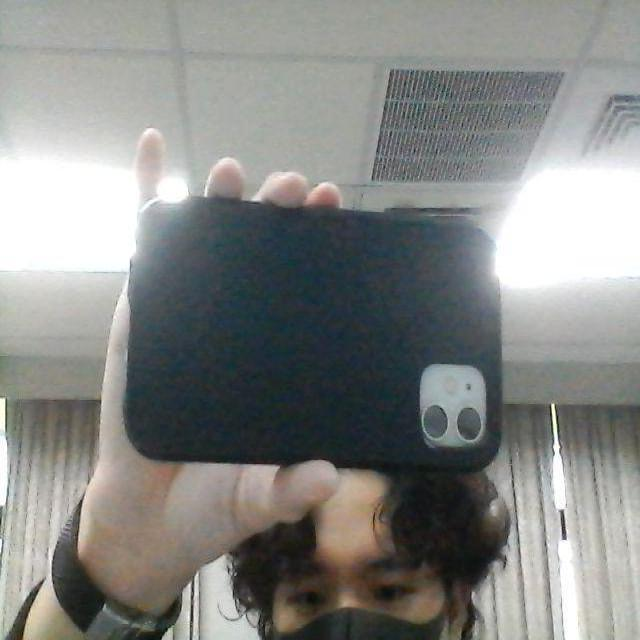mobile: (116, 188, 507, 484)
